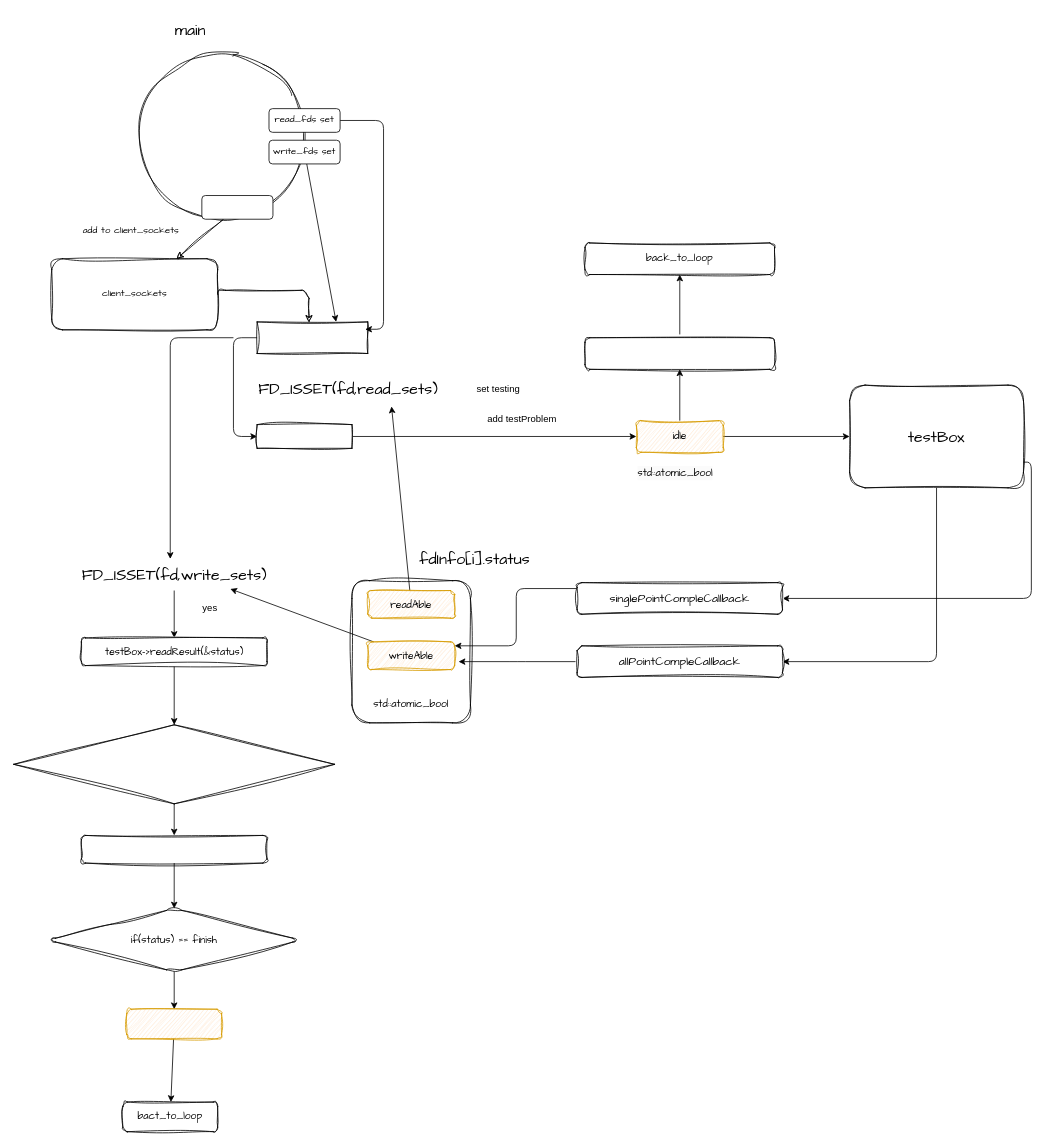
Image size: 1052x1146. Some labels were removed from this diagram. Each missing label, with the centre of its shape:
accept: point (237, 207)
deal_events: point (312, 337)
fdInfo[i].read: point (304, 436)
idle = true readAble = true: point (174, 1023)
if(status) == finish || error || success: point (174, 764)
send-message: point (174, 849)
send_message(busy): point (679, 353)
